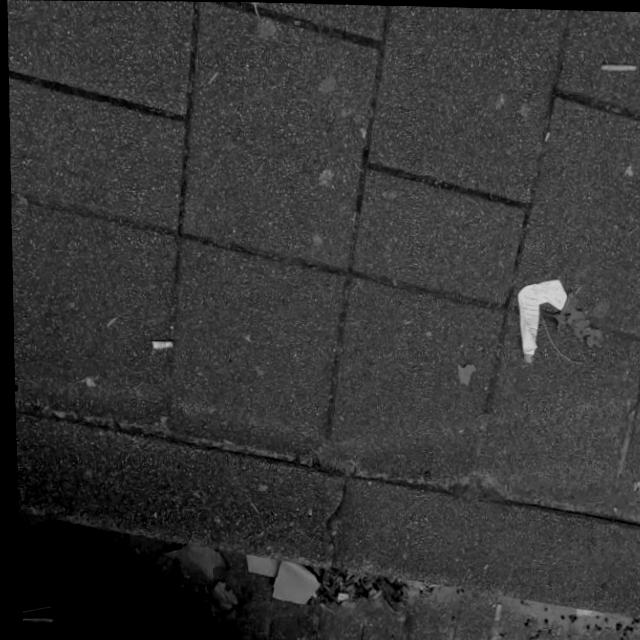Paper: (511, 273, 567, 357)
